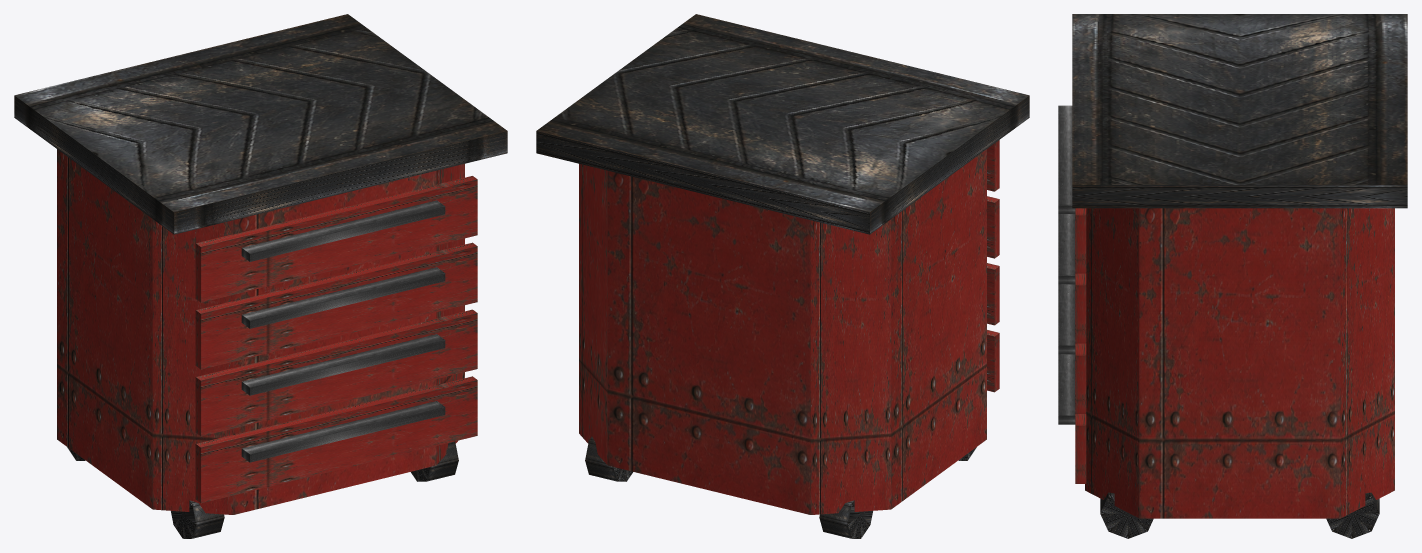
Rendered from tool-chest.obj.
3 renders of one model, left to right at view 1: azimuth 30°, elevation 25°; view 2: azimuth 150°, elevation 25°; view 3: azimuth 270°, elevation 25°, orthographic. The views are drawn at different scales.
Visible parts, largest first — view 1: tool-chest; view 2: tool-chest; view 3: tool-chest.
Boxes of the visible parts, x1,y1,x2,y2 form: tool-chest: (14, 14, 507, 538); tool-chest: (536, 14, 1029, 538); tool-chest: (1058, 14, 1407, 538).
Size of the model in its own units: 0.94 by 0.955 by 0.8125.
2 materials, 2 textured.
